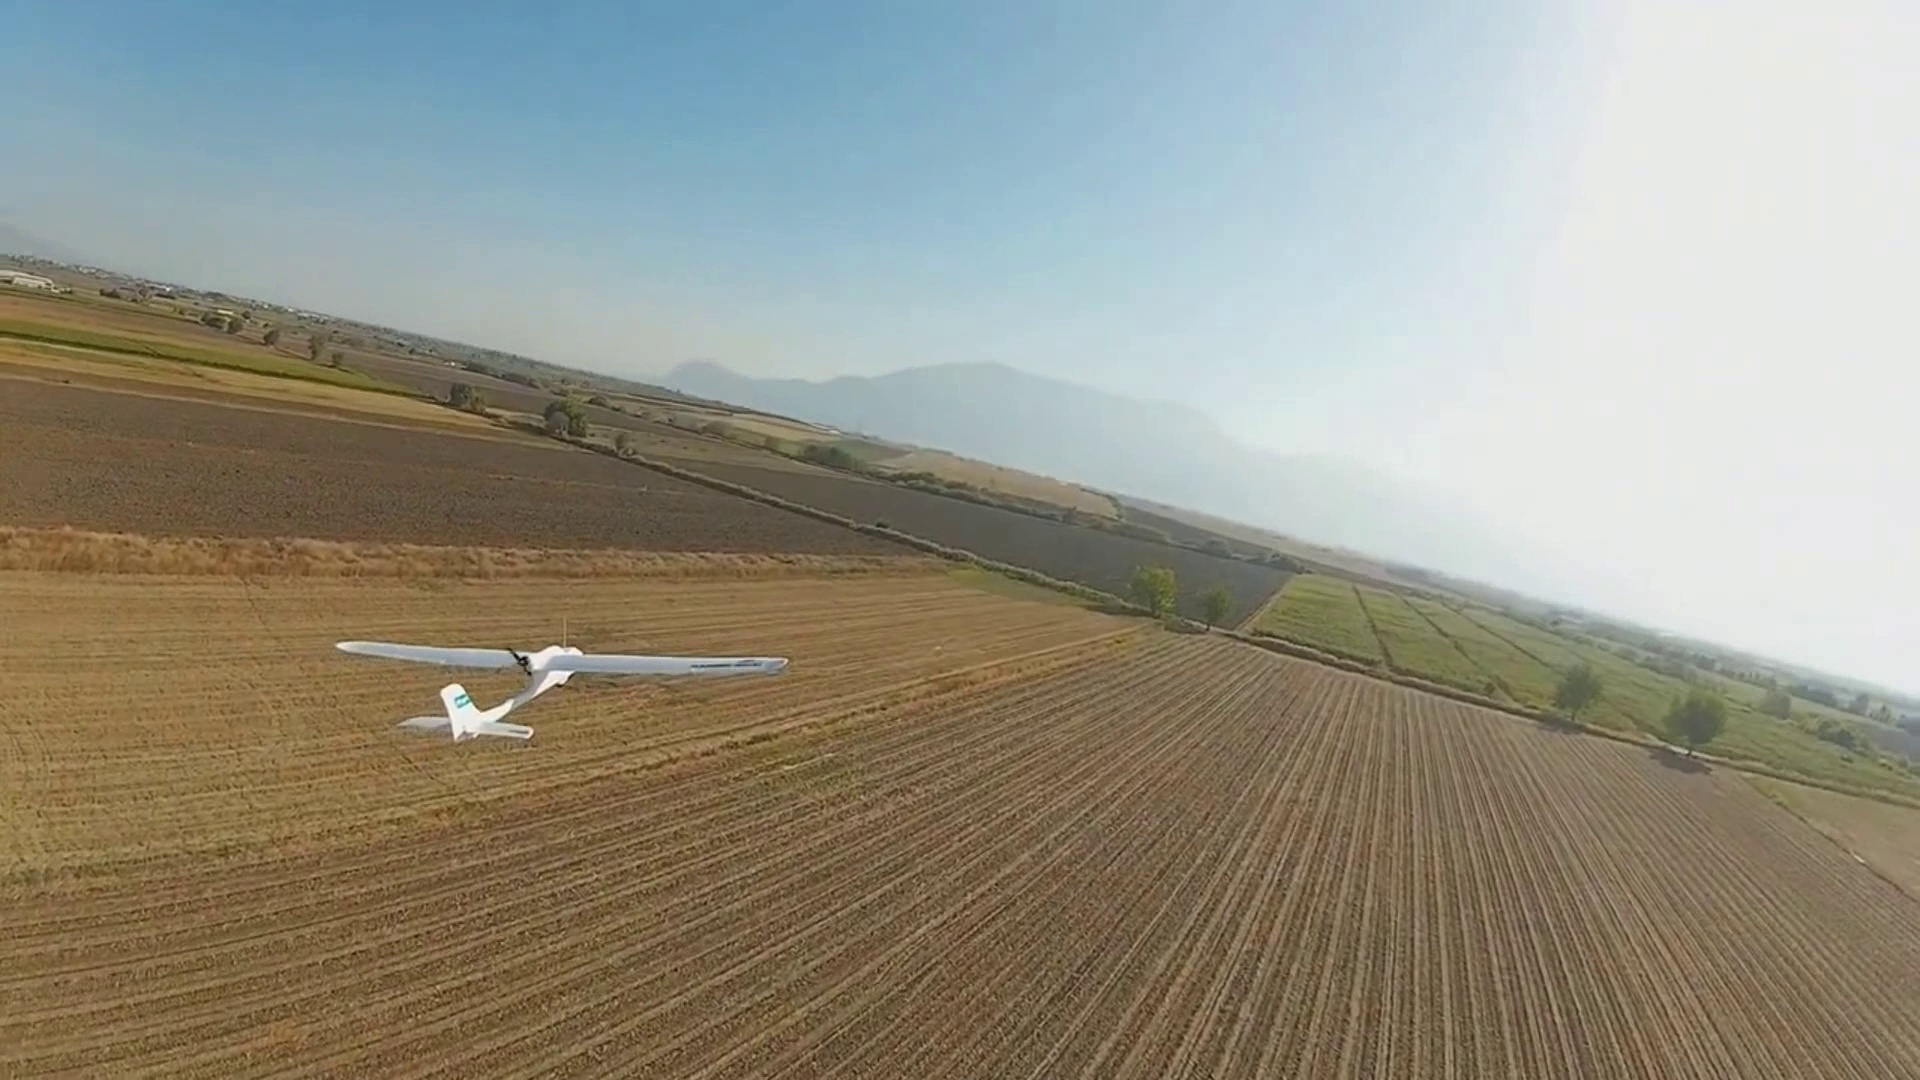airplane: (336, 635, 787, 744)
